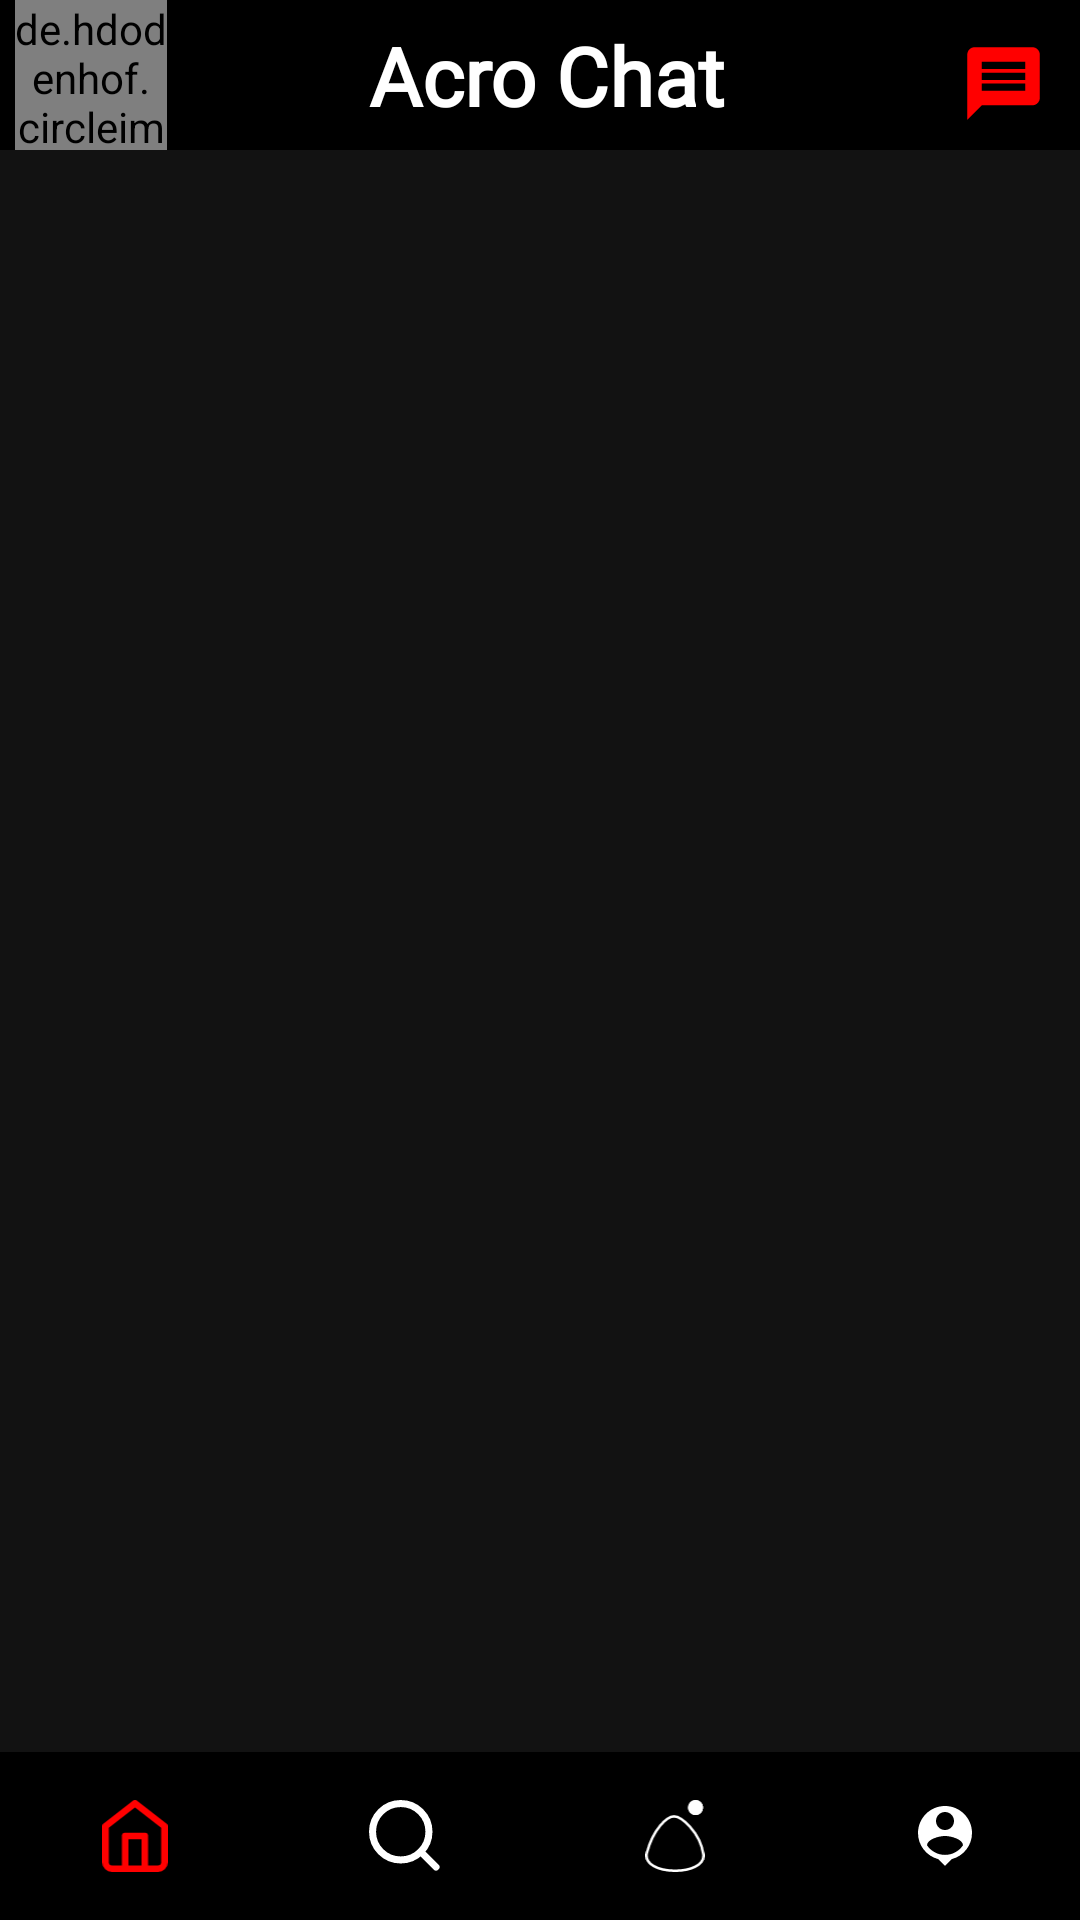

Screen size 1080×1920. Icon name, then its center in pixels as [x,y]:
message: [1003,83]
